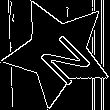N_NW: (25, 20, 90, 85)
